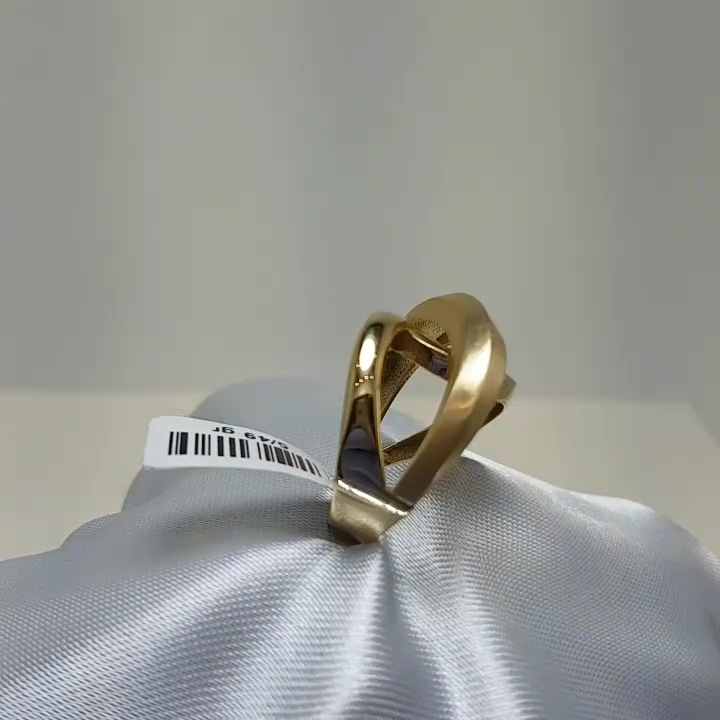Ring 3: (299, 273, 539, 554)
